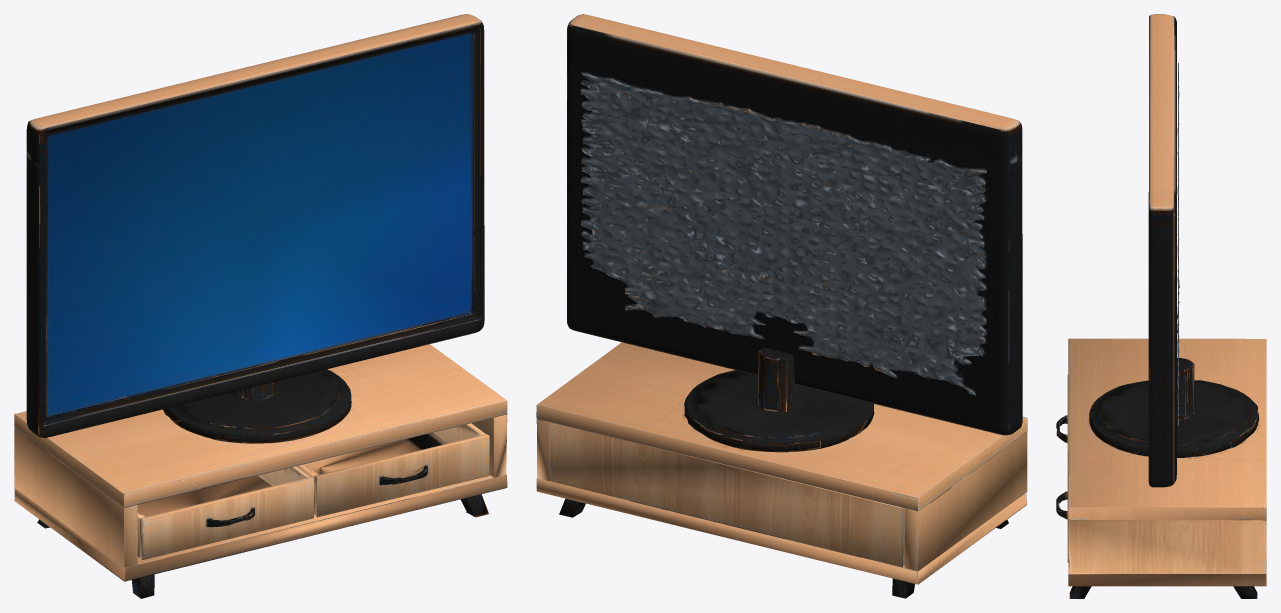
Rendered from tivi.glb.
3 views of the same model, side by side, from view 1: azimuth 30°, elevation 25°; view 2: azimuth 150°, elevation 25°; view 3: azimuth 270°, elevation 25° (orthographic). The views are drawn at different scales.
Bounding box in the file's own units: 0.9575 × 0.9229 × 0.4312.
Materials: 1 (1 with a texture image).
